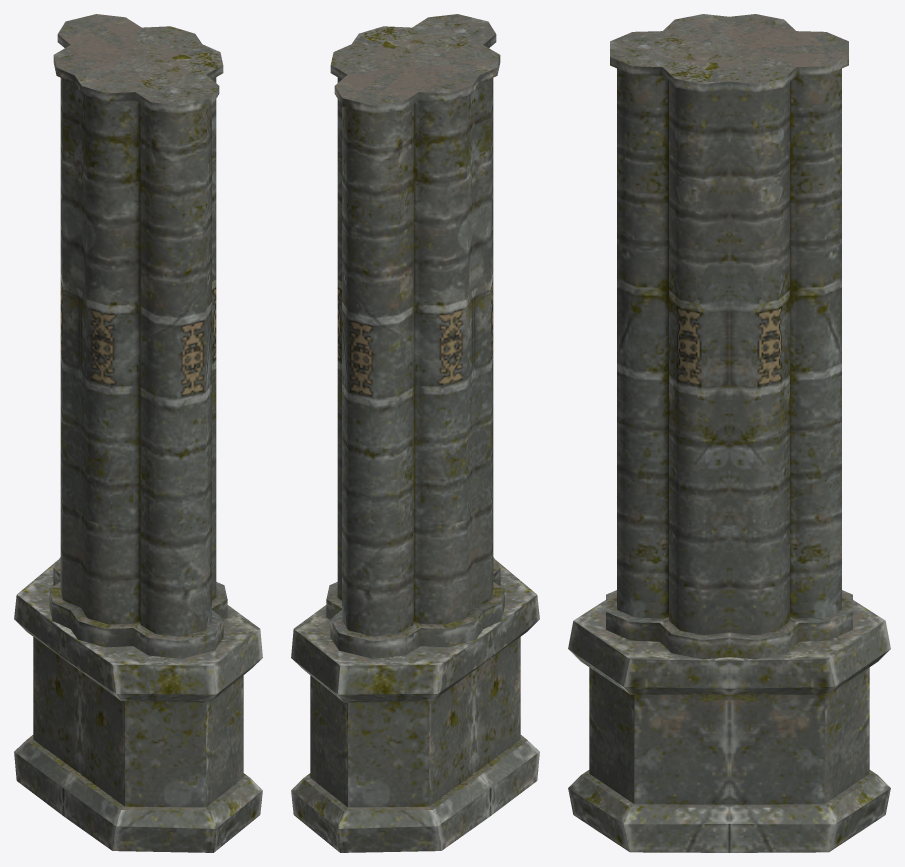
Rendered from SM_Kit_Tile_Wall_Stone_A_Column2.fbx.
3 views of the same model, side by side, from view 1: azimuth 30°, elevation 25°; view 2: azimuth 150°, elevation 25°; view 3: azimuth 270°, elevation 25° (orthographic). The views are drawn at different scales.
Parts seen in each view (by area): view 1: SM_Kit_Tile_Wall_Stone_A_Column2_LOD0; view 2: SM_Kit_Tile_Wall_Stone_A_Column2_LOD0; view 3: SM_Kit_Tile_Wall_Stone_A_Column2_LOD0.
Part boxes in pixels (x1,y1,x2,y2): SM_Kit_Tile_Wall_Stone_A_Column2_LOD0: (14, 14, 262, 852); SM_Kit_Tile_Wall_Stone_A_Column2_LOD0: (291, 14, 539, 852); SM_Kit_Tile_Wall_Stone_A_Column2_LOD0: (568, 14, 890, 852).
Bounding box in the file's own units: 82.4 × 148 × 387.
1 material, 1 textured.
